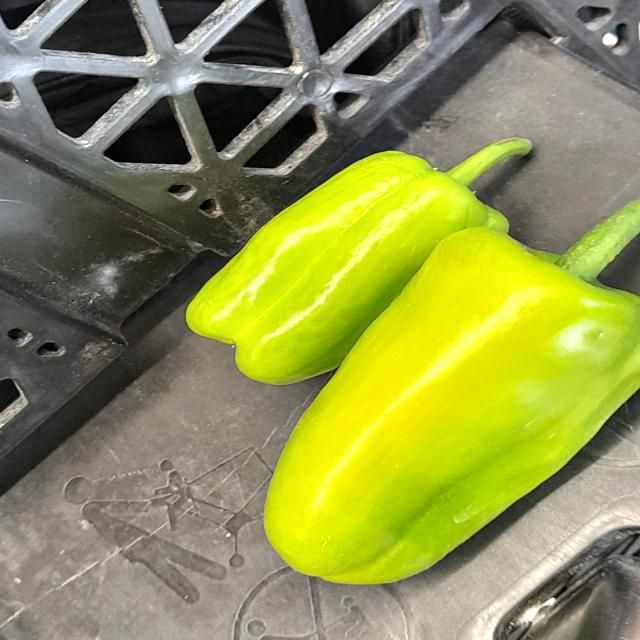bell pepper: (248, 178, 640, 594), (178, 126, 550, 386)
